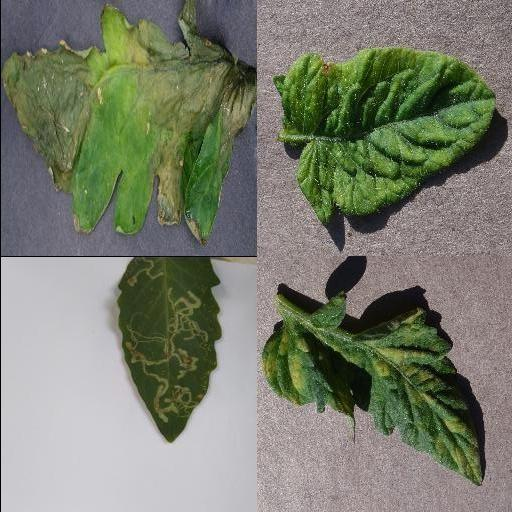Late Blight: (0, 0, 256, 246)
Leaf Miner: (114, 259, 220, 443)
Leaf Mold: (261, 291, 483, 487)
Yellow Leaf Curl Virus: (270, 49, 498, 223)
